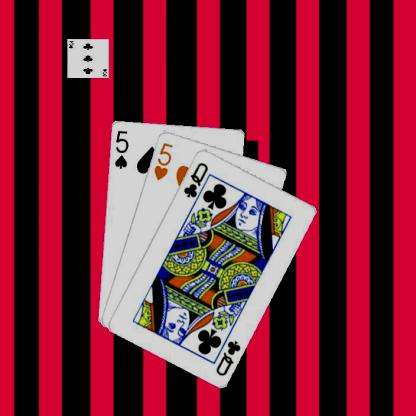5H: (151, 140, 174, 182)
5S: (112, 127, 129, 170)
QC: (212, 337, 242, 377), (181, 160, 209, 199)
